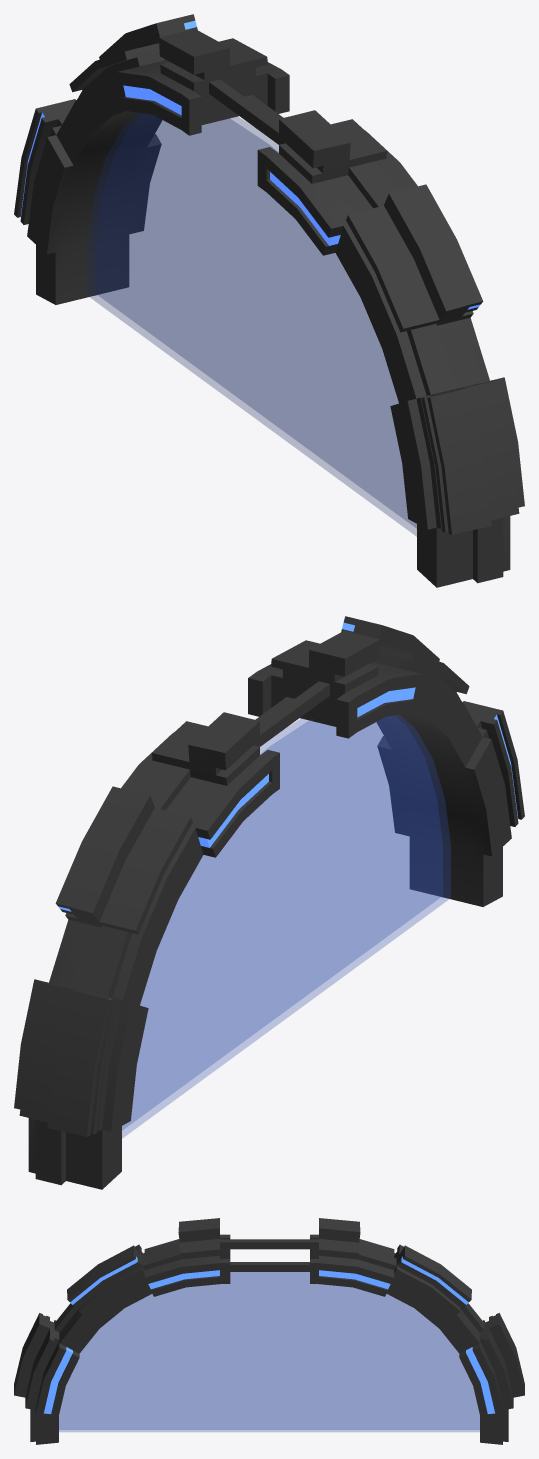
File: BlueGateWide.fbx
3 views of the same model, one above another, from view 1: azimuth 30°, elevation 25°; view 2: azimuth 150°, elevation 25°; view 3: azimuth 270°, elevation 25° (orthographic). The views are drawn at different scales.
Visible parts, largest first — view 1: gate_groundWide_blue, blueW; view 2: gate_groundWide_blue, blueW; view 3: blueW, gate_groundWide_blue.
Boxes of the visible parts, x1,y1,x2,y2 form: gate_groundWide_blue: [14, 14, 524, 587]; blueW: [88, 113, 416, 536]; gate_groundWide_blue: [14, 616, 524, 1189]; blueW: [122, 715, 450, 1138]; blueW: [59, 1272, 479, 1431]; gate_groundWide_blue: [14, 1218, 524, 1444].
Size of the model in its own units: 1.17 by 3.95 by 8.86.
